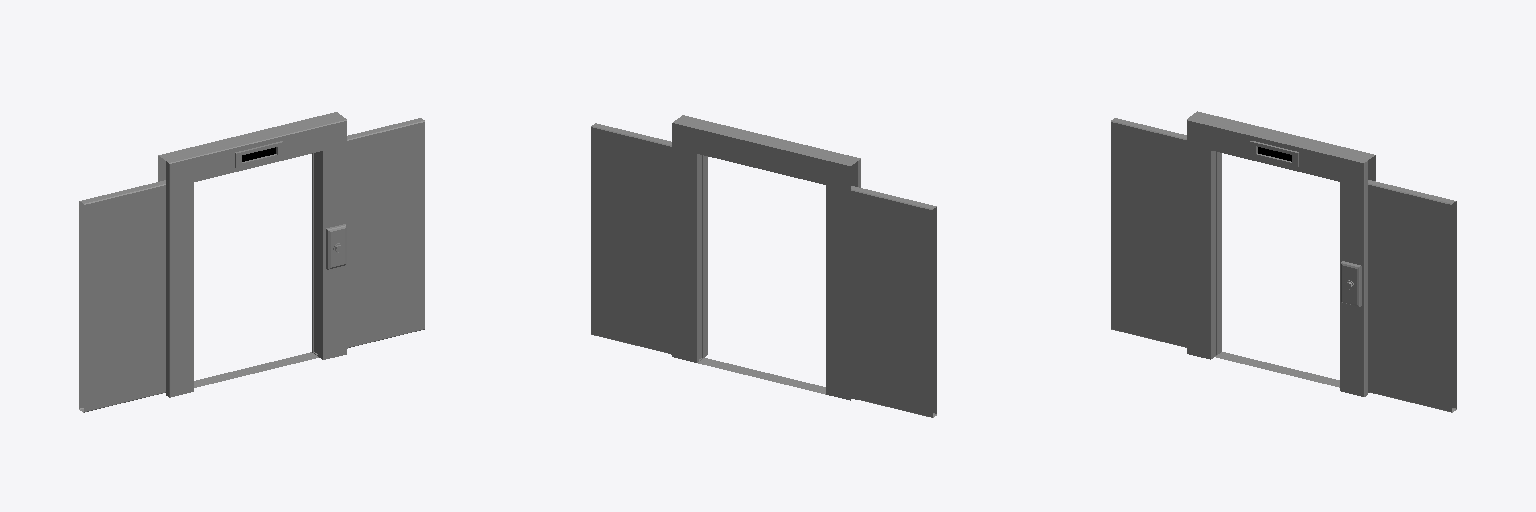
File: ElevatorDoors.obj
3 renders of one model, left to right at view 1: azimuth 30°, elevation 25°; view 2: azimuth 150°, elevation 25°; view 3: azimuth 330°, elevation 25°, orthographic.
Visible parts, largest first — view 1: Doors.001_Cube.009, Doors_ElevatorDoors, Doors.002_Cube.007; view 2: Doors.001_Cube.009, Doors_ElevatorDoors; view 3: Doors.001_Cube.009, Doors_ElevatorDoors, Doors.002_Cube.007.
Part boxes in pixels (left/top/right/bottom): Doors.001_Cube.009: left=79, top=118, right=424, bottom=412; Doors_ElevatorDoors: left=158, top=112, right=347, bottom=397; Doors.002_Cube.007: left=326, top=224, right=346, bottom=269; Doors.001_Cube.009: left=591, top=123, right=936, bottom=417; Doors_ElevatorDoors: left=668, top=115, right=860, bottom=400; Doors.001_Cube.009: left=1111, top=118, right=1456, bottom=412; Doors_ElevatorDoors: left=1185, top=111, right=1375, bottom=396; Doors.002_Cube.007: left=1341, top=261, right=1361, bottom=306.
Size of the model in its own units: 4.27 by 2.8 by 0.3268.